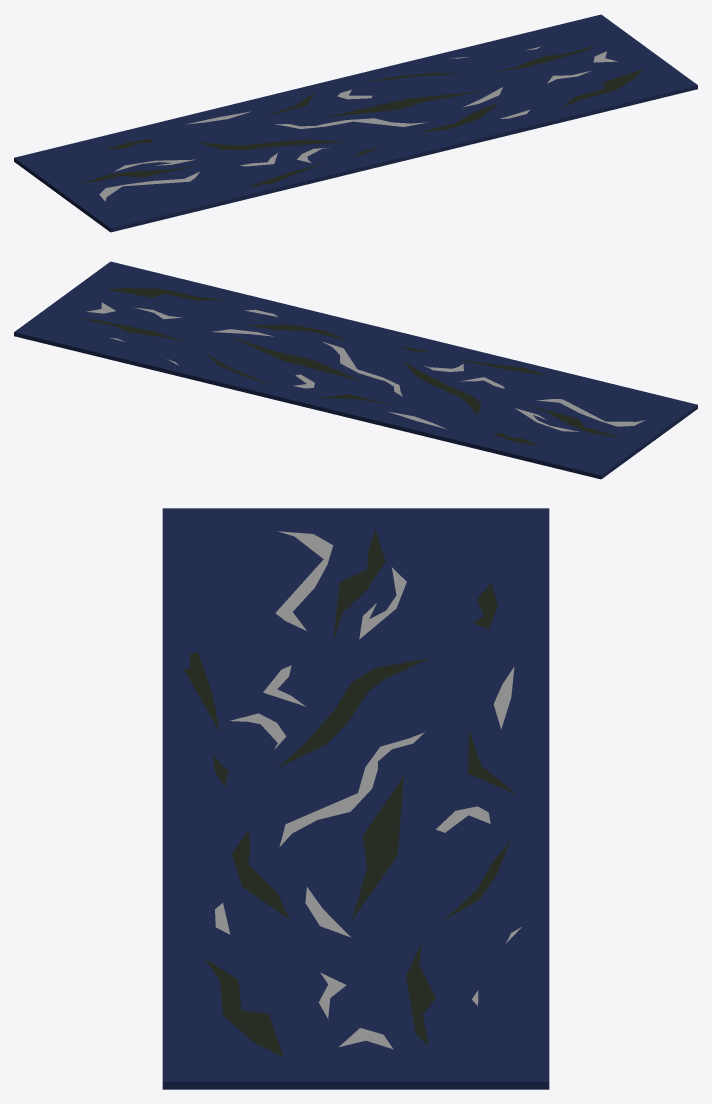
Rendered from dirtywater2.fbx.
The picture shows the model from 3 angles, top to bottom: view 1: azimuth 30°, elevation 25°; view 2: azimuth 150°, elevation 25°; view 3: azimuth 270°, elevation 25°; orthographic projection. The views are drawn at different scales.
Visible parts, largest first — view 1: Cube; view 2: Cube; view 3: Cube.
Part boxes in pixels (x1,y1,x2,y2): Cube: (14, 14, 697, 232); Cube: (14, 261, 697, 479); Cube: (162, 508, 549, 1089).
Bounding box in the file's own units: 1784 × 11.59 × 509.
